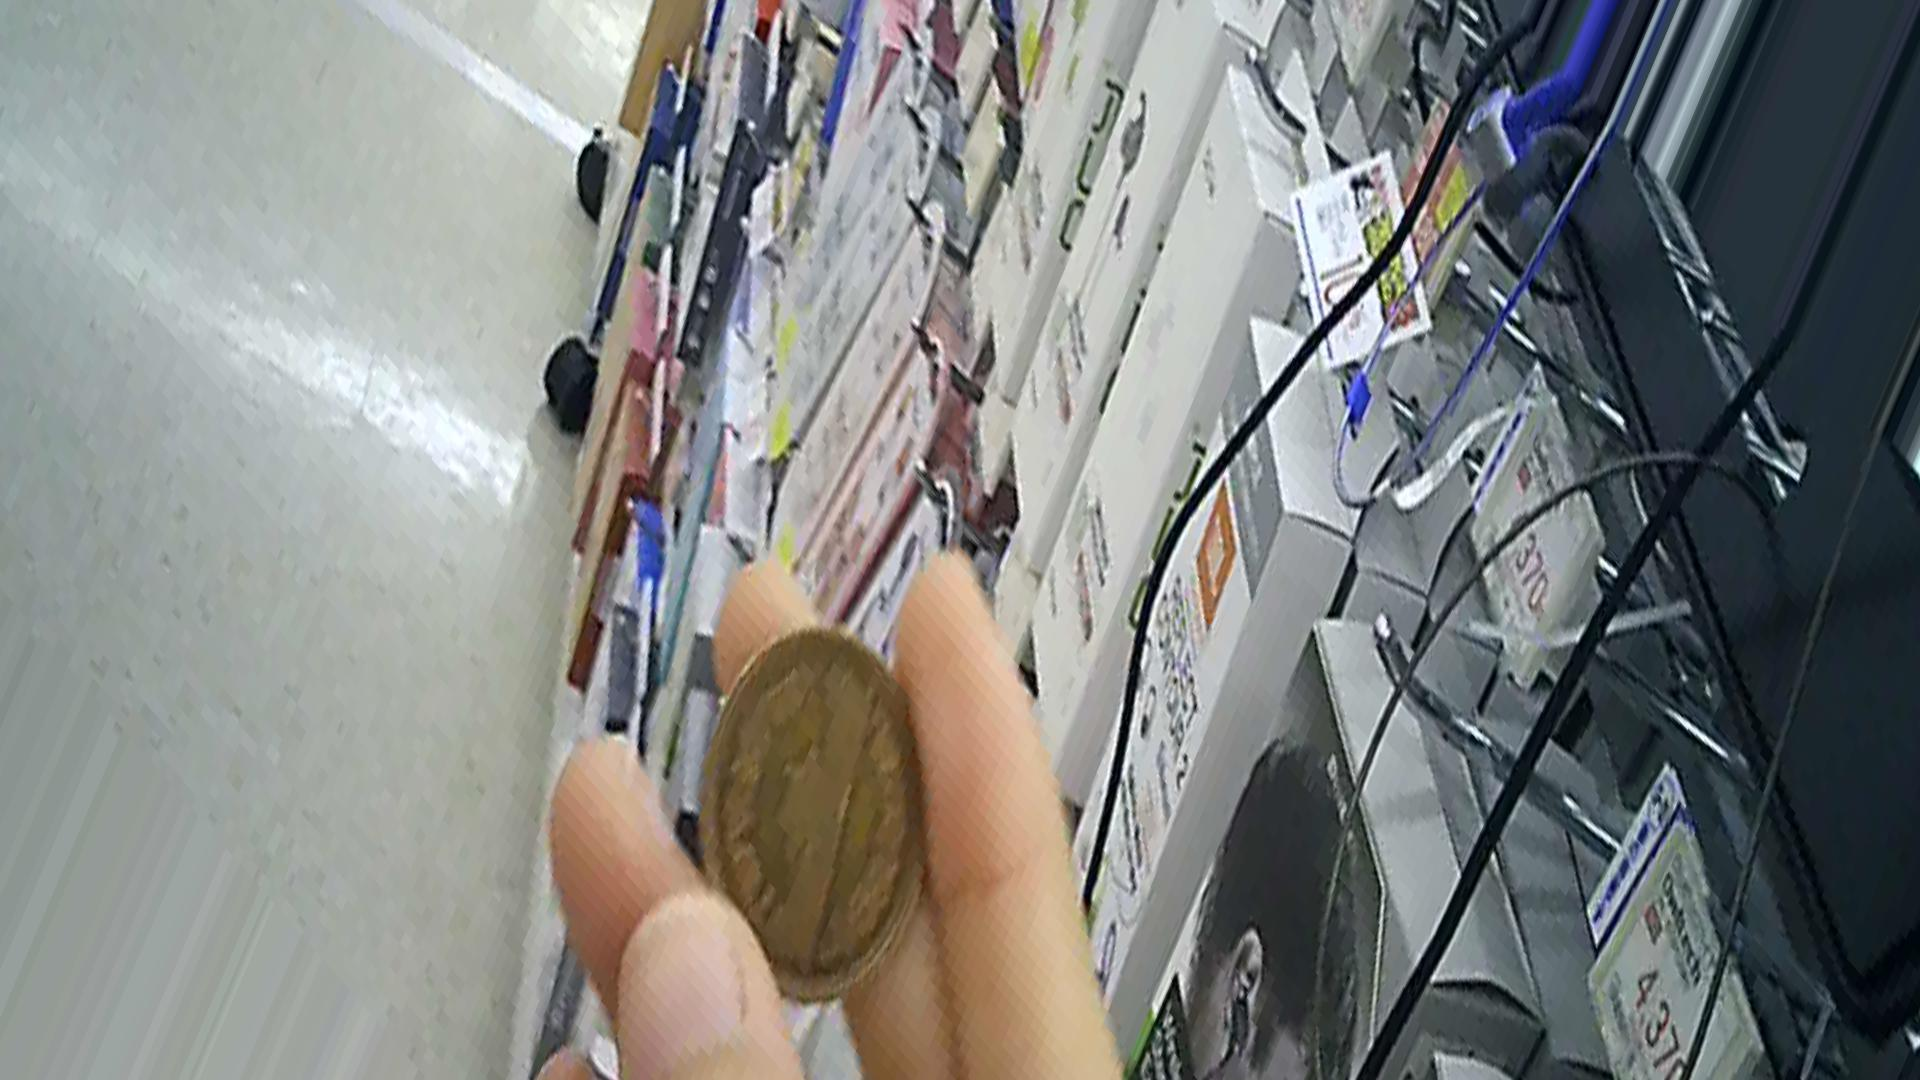10 Yen: (709, 622, 943, 1004)
